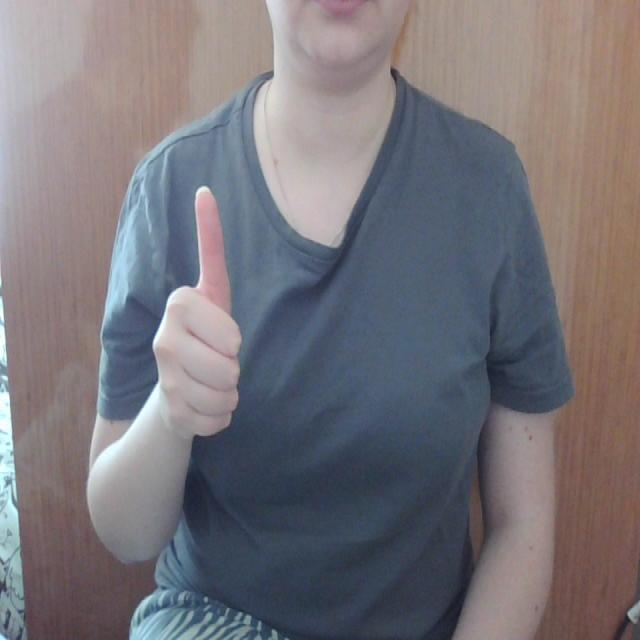Tamam: (149, 185, 250, 443)
